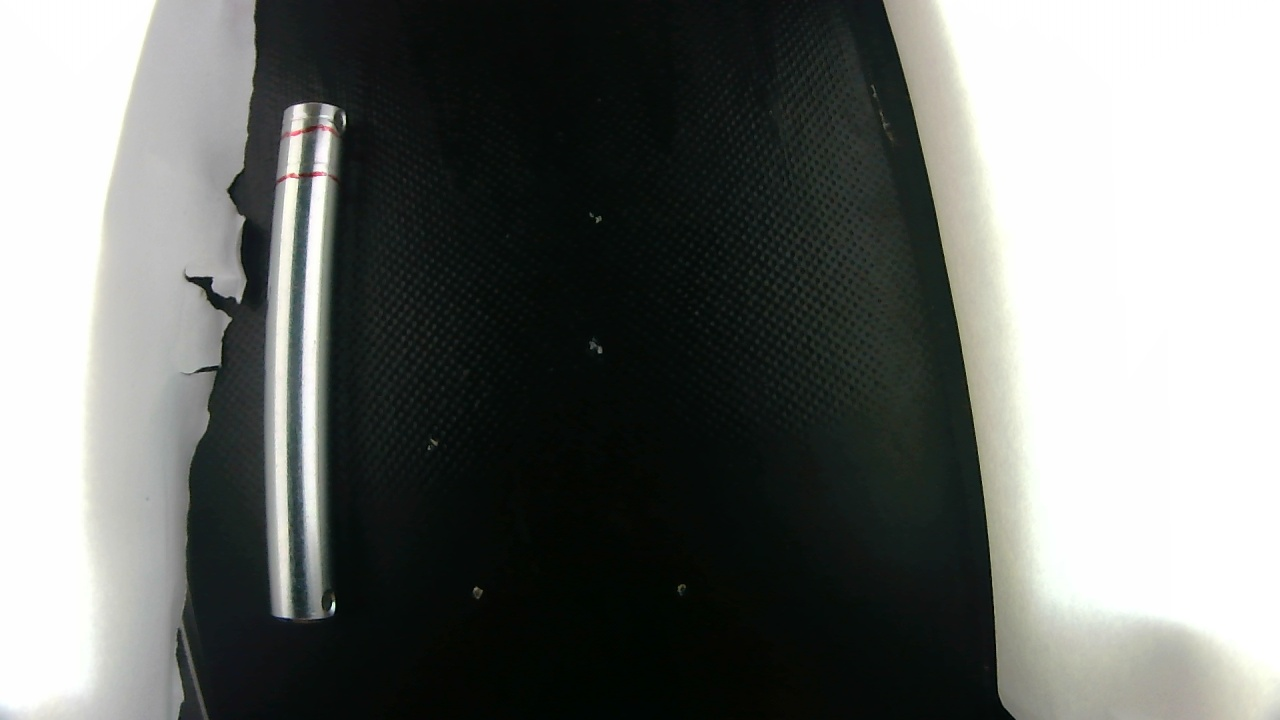odlinemark_pin: (278, 103, 352, 131)
